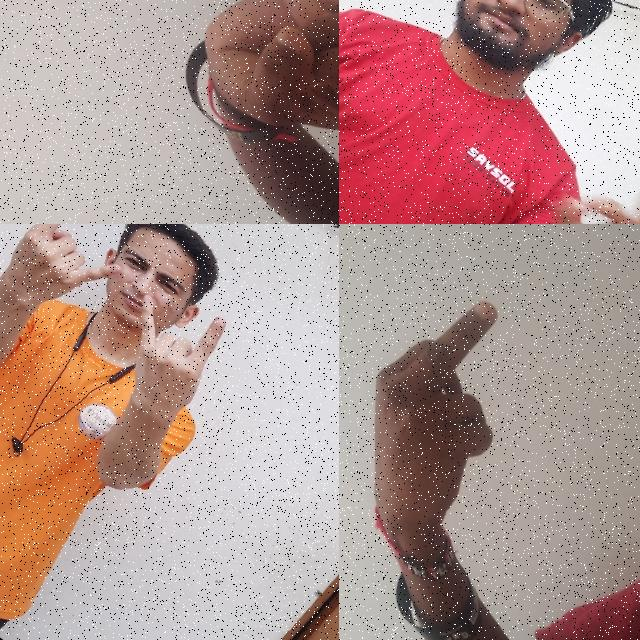Corna: (154, 0, 339, 224), (80, 264, 256, 443), (0, 224, 151, 345)
Middle Finger: (339, 269, 581, 580)
Okay: (505, 111, 640, 224)
